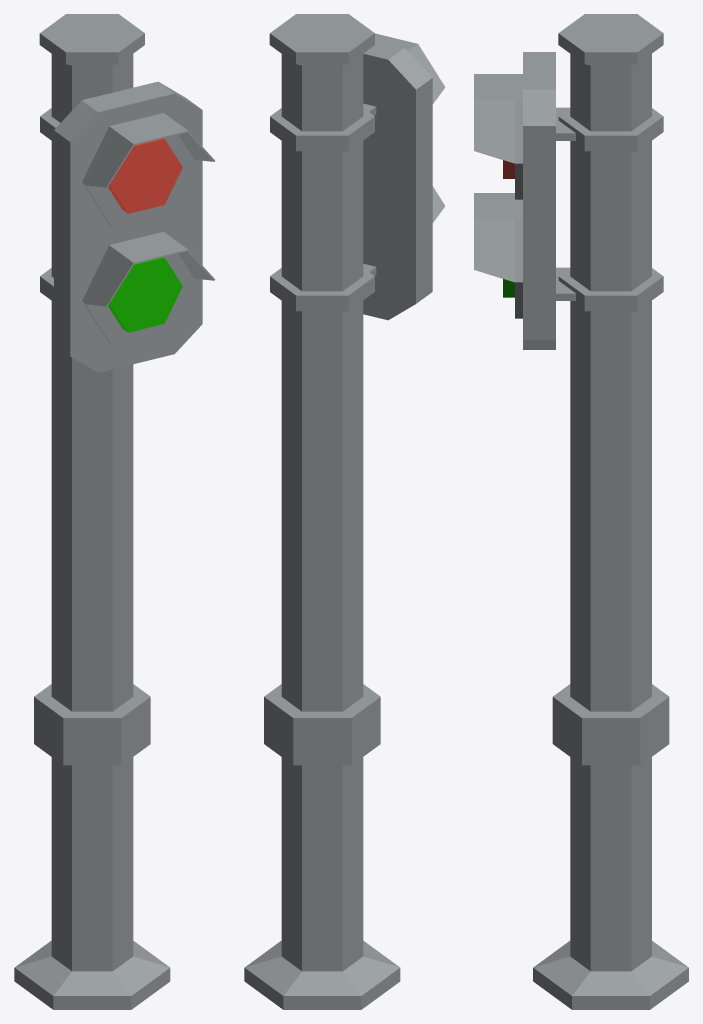
The model's file is traffic_02.fbx.
3 renders of one model, left to right at view 1: azimuth 30°, elevation 25°; view 2: azimuth 150°, elevation 25°; view 3: azimuth 270°, elevation 25°, orthographic.
Parts seen in each view (by area): view 1: Cylinder.003, Cylinder.005, Cylinder.007, Cylinder.008; view 2: Cylinder.003, Cylinder.005, Cylinder.008; view 3: Cylinder.003, Cylinder.005, Cylinder.008, Cylinder.007.
Part boxes in pixels (x1=…): Cylinder.003: x1=14, y1=14, x2=170, y2=1009; Cylinder.005: x1=54, y1=81, x2=202, y2=372; Cylinder.007: x1=82, y1=113, x2=194, y2=346; Cylinder.008: x1=86, y1=116, x2=215, y2=306; Cylinder.003: x1=244, y1=14, x2=400, y2=1009; Cylinder.005: x1=363, y1=40, x2=432, y2=320; Cylinder.008: x1=375, y1=33, x2=445, y2=222; Cylinder.003: x1=533, y1=14, x2=688, y2=1009; Cylinder.005: x1=523, y1=52, x2=555, y2=349; Cylinder.008: x1=474, y1=74, x2=514, y2=282; Cylinder.007: x1=503, y1=74, x2=522, y2=318.
Size of the model in its own units: 59.85 by 410 by 84.26.
